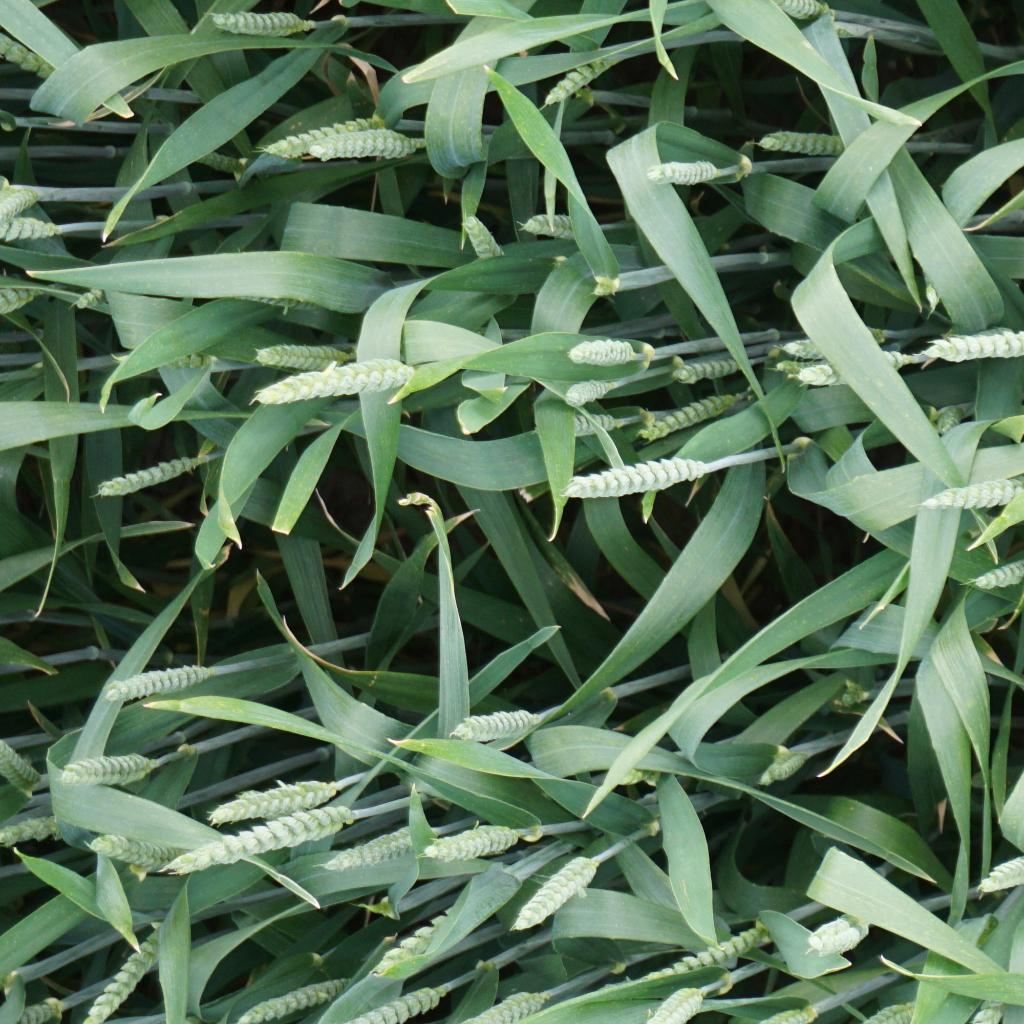0-0: (151, 802, 359, 878), (82, 918, 176, 1024), (248, 356, 426, 411), (632, 922, 787, 985), (364, 893, 471, 979), (561, 447, 709, 507), (508, 848, 606, 937), (307, 819, 439, 878), (205, 777, 352, 828), (231, 972, 364, 1024), (89, 453, 217, 501), (259, 114, 381, 164), (539, 49, 635, 111), (630, 390, 745, 439), (410, 820, 528, 867), (345, 977, 462, 1024), (102, 662, 222, 707), (82, 830, 199, 876), (909, 472, 1024, 515), (299, 127, 430, 162), (60, 747, 158, 791), (788, 353, 908, 388), (202, 4, 319, 39), (252, 339, 361, 376), (446, 705, 542, 747), (923, 326, 1024, 365), (459, 987, 565, 1024), (805, 905, 881, 956), (760, 123, 866, 159), (0, 31, 68, 87), (771, 333, 893, 363), (639, 977, 716, 1024), (104, 350, 219, 377), (670, 354, 764, 387), (225, 285, 320, 317), (758, 742, 821, 786), (967, 545, 1024, 591), (563, 337, 643, 369), (864, 995, 951, 1024), (0, 814, 76, 847), (644, 159, 726, 189), (969, 852, 1024, 896), (460, 213, 507, 263), (183, 139, 248, 175), (0, 738, 36, 803), (520, 210, 593, 242), (559, 408, 623, 441), (0, 277, 54, 314), (8, 993, 69, 1024), (563, 374, 619, 406), (0, 215, 69, 240), (933, 398, 971, 436), (771, 356, 843, 376), (76, 284, 112, 311)
